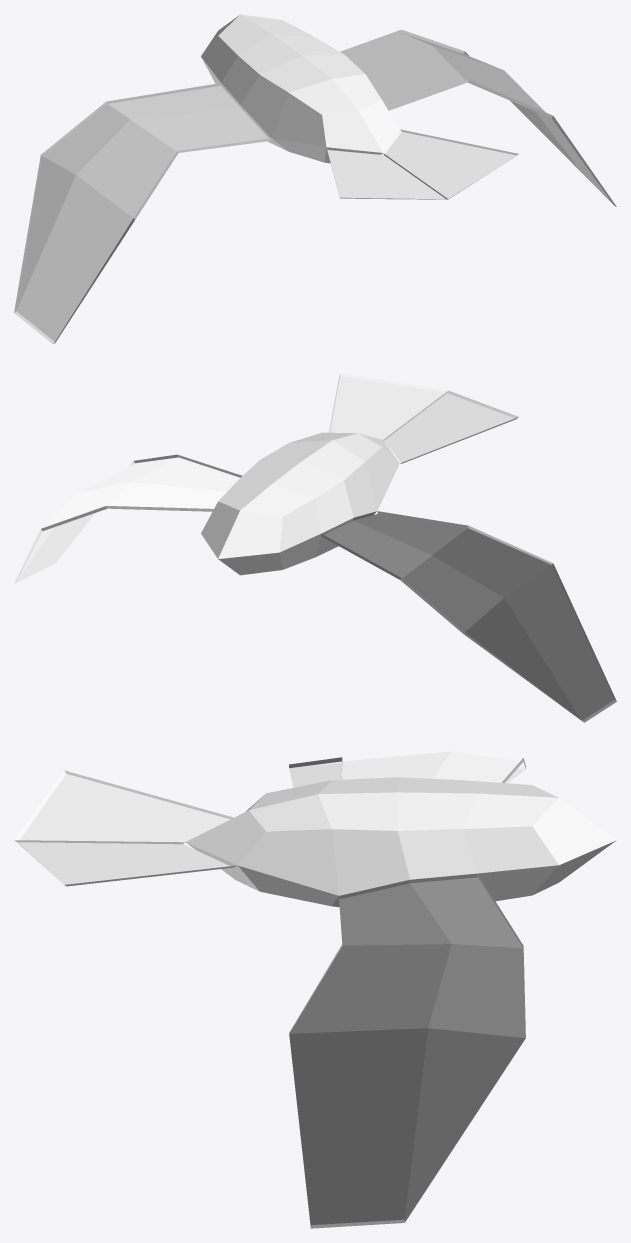
File: oiseau_v1.glb
3 renders of one model, top to bottom at view 1: azimuth 30°, elevation 25°; view 2: azimuth 150°, elevation 25°; view 3: azimuth 270°, elevation 25°, orthographic. The views are drawn at different scales.
Visible parts, largest first — view 1: oiseau; view 2: oiseau; view 3: oiseau.
Part boxes in pixels (left/top/right/bottom): oiseau: left=14, top=14, right=616, bottom=344; oiseau: left=14, top=373, right=616, bottom=722; oiseau: left=14, top=751, right=616, bottom=1228.
Bounding box in the file's own units: 7.76 × 2.55 × 5.43.
1 material, 1 textured.
